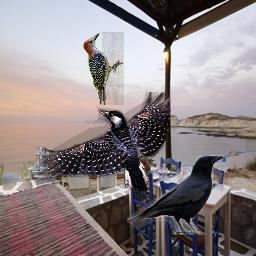Crow: (127, 155, 224, 235)
Woodpecker: (36, 92, 171, 191), (81, 32, 124, 105)
